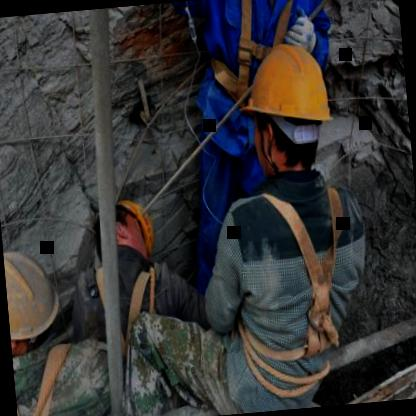helmet: (240, 38, 336, 176), (4, 248, 66, 362), (95, 195, 164, 271)
